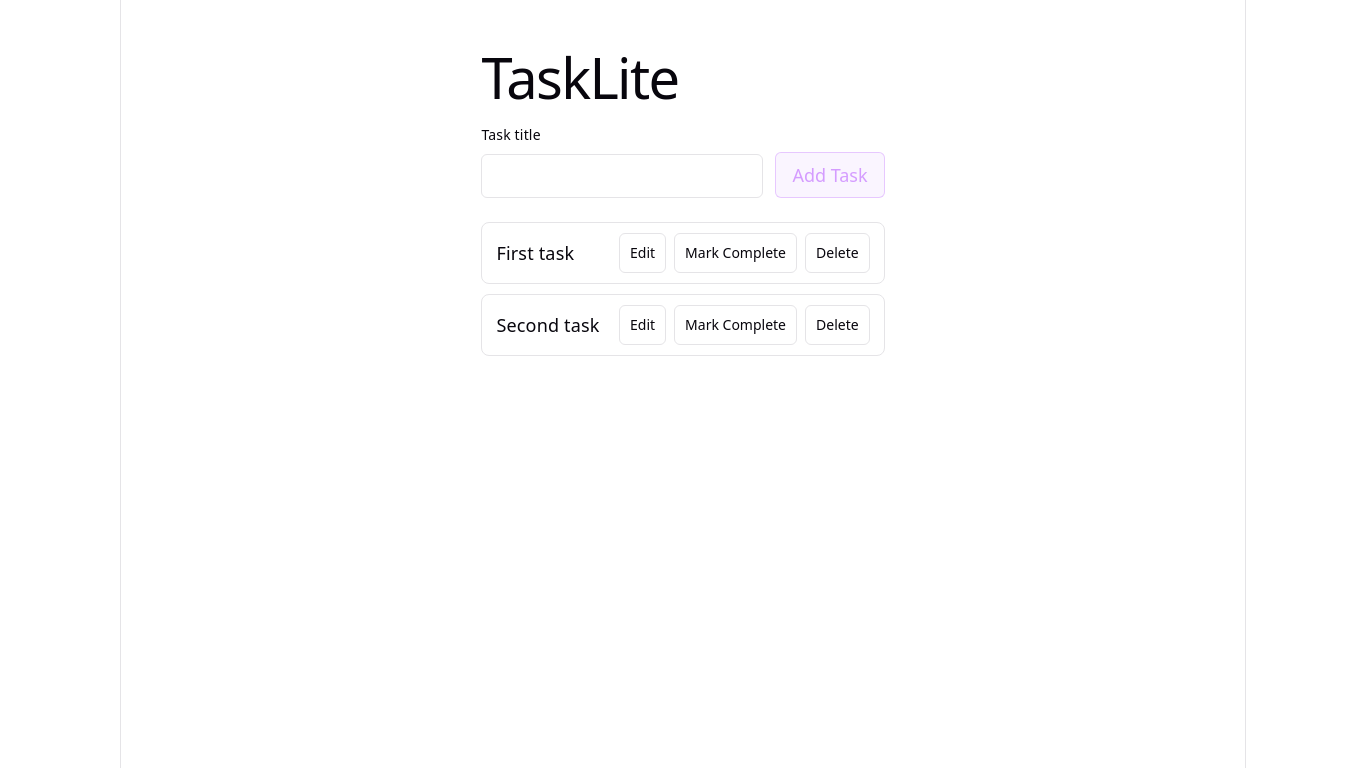
Scenario: EPMCDMETST-66641 – save edited title without full page reload › AC: saving exits edit mode back to read-only view
Step 1. Click the button with aria-label "edit task" → (643, 253), box [619, 233, 666, 273]
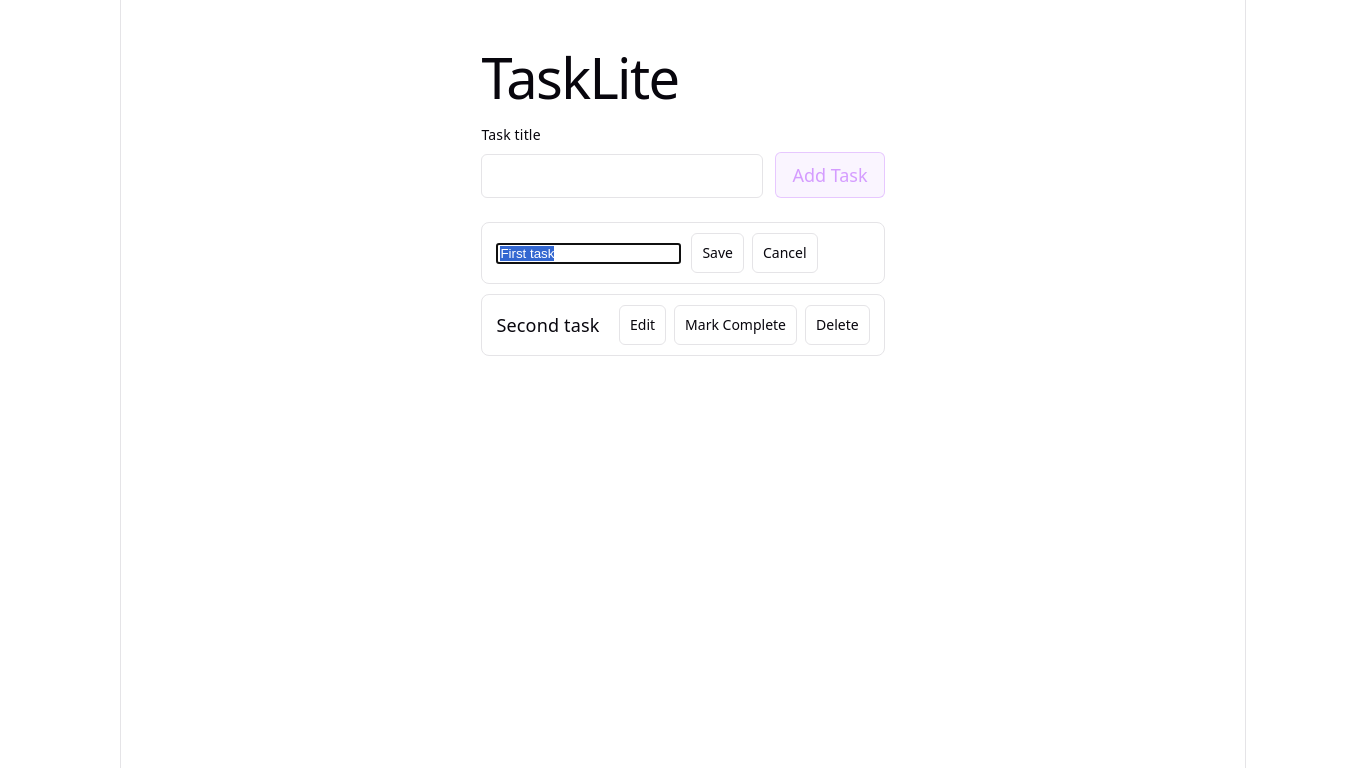
Step 2. Click the button with aria-label "save task title" → (718, 253), box [691, 233, 744, 273]
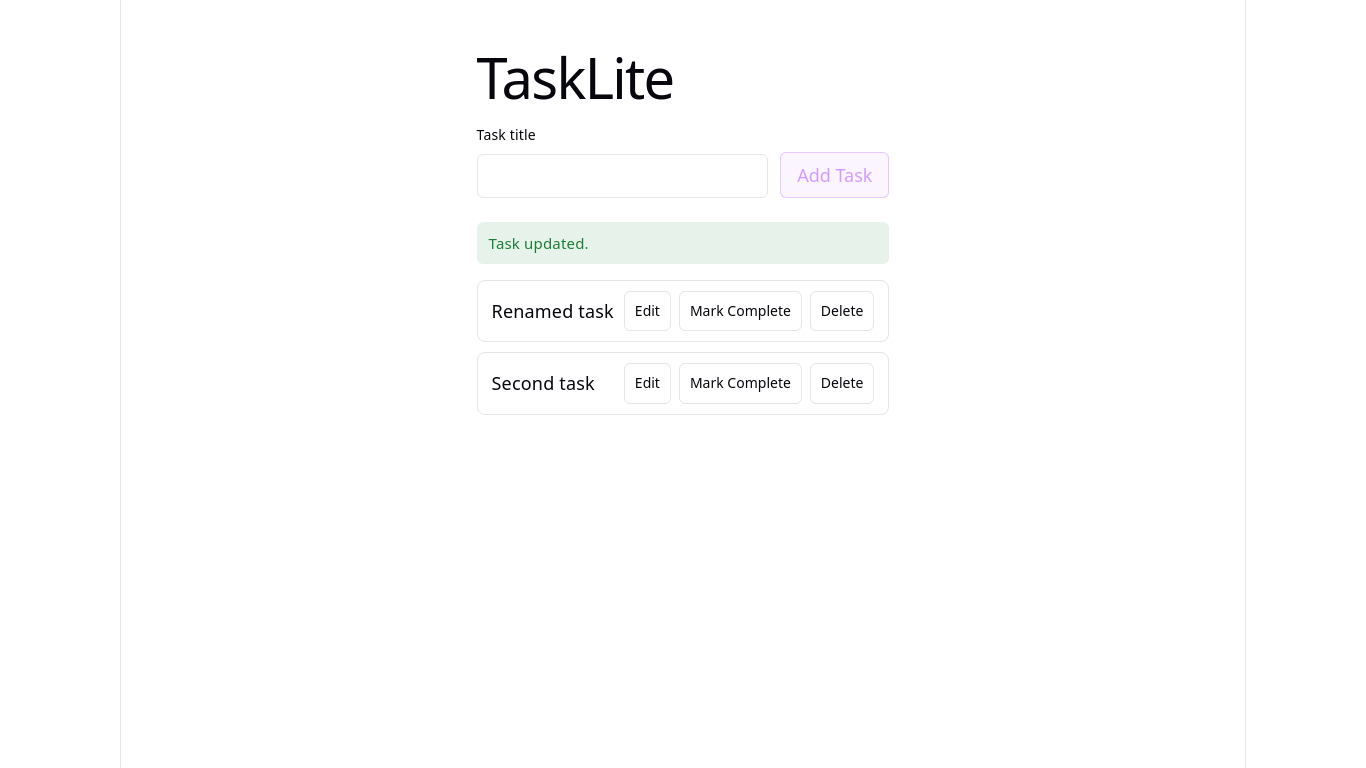
Check: the text "Renamed task" is shown, box [492, 298, 614, 324]
